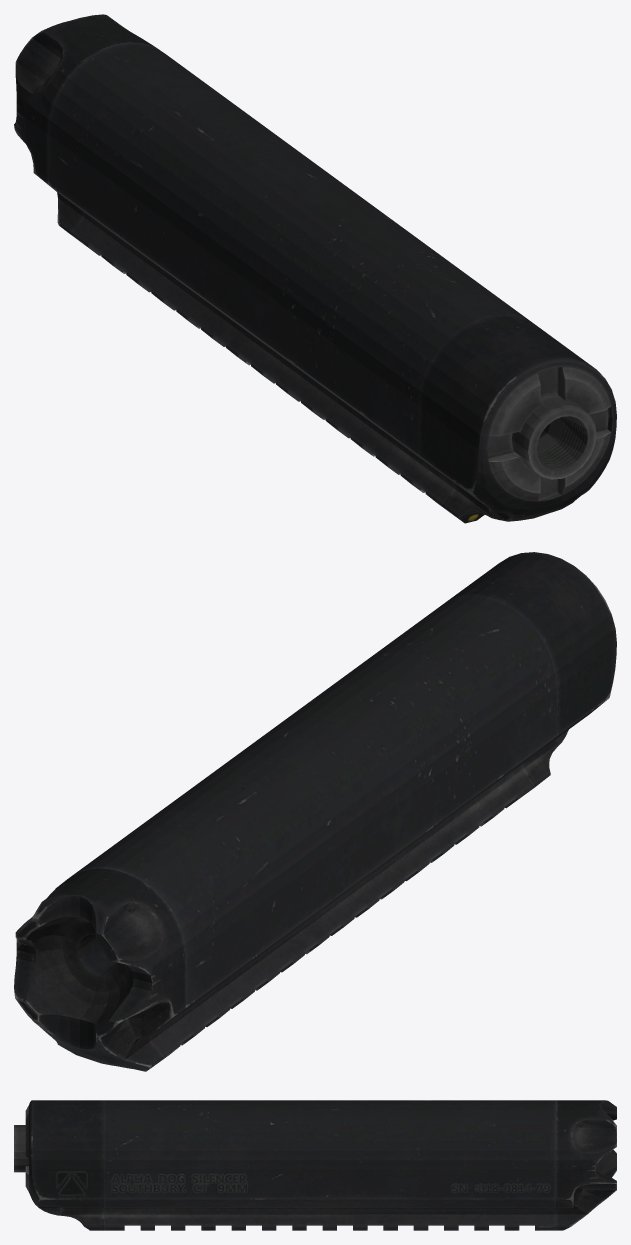
3 views of the same model, one above another, from view 1: azimuth 30°, elevation 25°; view 2: azimuth 150°, elevation 25°; view 3: azimuth 270°, elevation 25° (orthographic). The views are drawn at different scales.
Visible parts, largest first — view 1: TW_5a33a8ebc4a282000c5a950d_PZ_Import; view 2: TW_5a33a8ebc4a282000c5a950d_PZ_Import; view 3: TW_5a33a8ebc4a282000c5a950d_PZ_Import.
Boxes of the visible parts, box(x1,y1,x2,y2) form: TW_5a33a8ebc4a282000c5a950d_PZ_Import: box(14, 14, 616, 523); TW_5a33a8ebc4a282000c5a950d_PZ_Import: box(14, 552, 616, 1071); TW_5a33a8ebc4a282000c5a950d_PZ_Import: box(14, 1100, 616, 1230).
Size of the model in its own units: 0.0185 by 0.1149 by 0.0243.
1 material, 1 textured.
